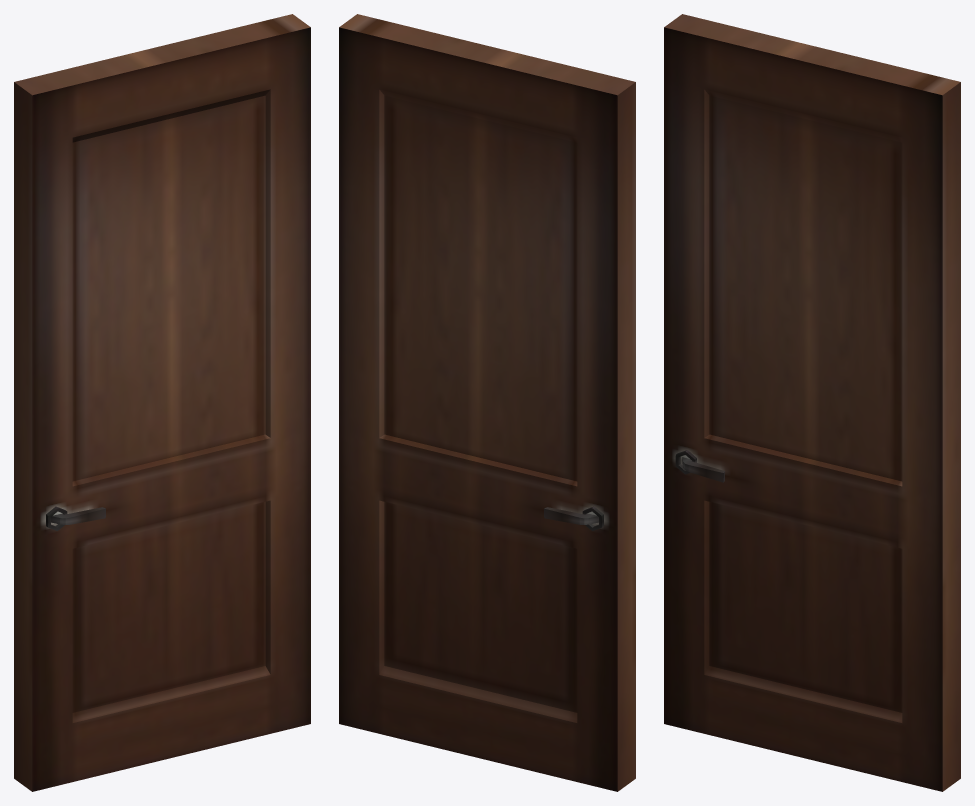
File: wooden_door_2.glb
The picture shows the model from 3 angles, left to right: view 1: azimuth 30°, elevation 25°; view 2: azimuth 150°, elevation 25°; view 3: azimuth 330°, elevation 25°; orthographic projection.
Parts seen in each view (by area): view 1: Wooden Door_009.001, Door Handle.019; view 2: Wooden Door_009.001, Door Handle.019; view 3: Wooden Door_009.001, Door Handle.019.
Part boxes in pixels (x1,y1,x2,y2): Wooden Door_009.001: (14, 14, 310, 791); Door Handle.019: (46, 506, 105, 530); Wooden Door_009.001: (339, 14, 635, 791); Door Handle.019: (544, 506, 603, 530); Wooden Door_009.001: (664, 14, 960, 791); Door Handle.019: (675, 450, 724, 482).
Bounding box in the file's own units: 0.7558 × 1.81 × 0.1507.
Materials: 1 (1 with a texture image).
